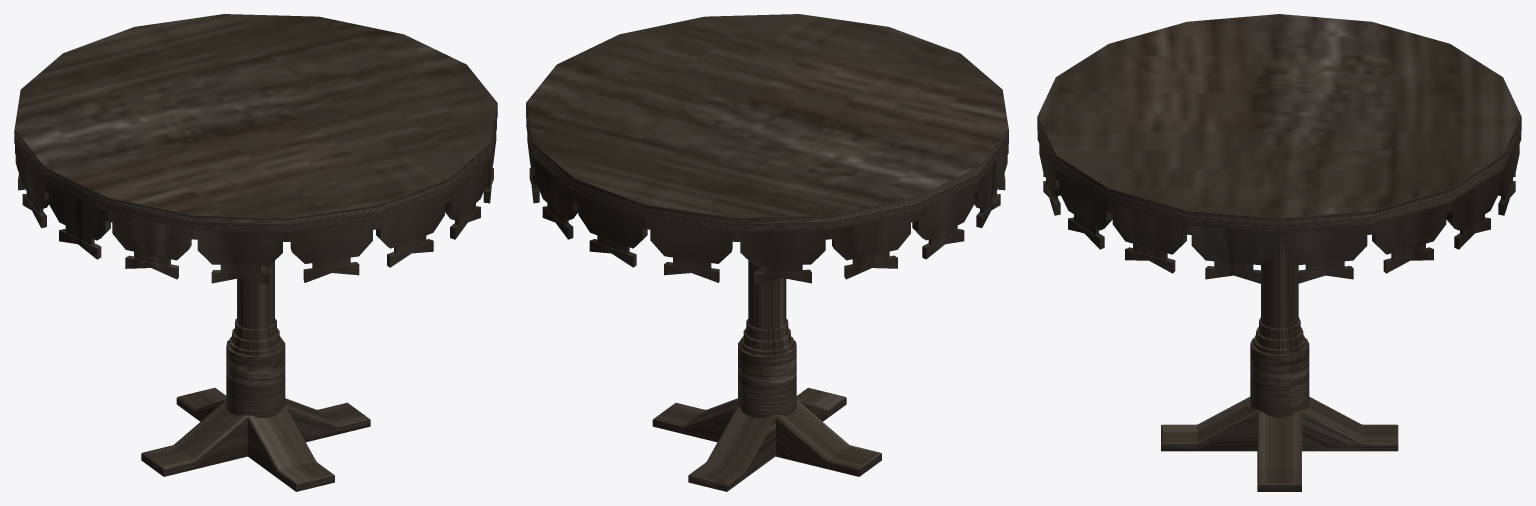
The model's file is smalltable2final.fbx.
3 views of the same model, side by side, from view 1: azimuth 30°, elevation 25°; view 2: azimuth 150°, elevation 25°; view 3: azimuth 270°, elevation 25° (orthographic).
Visible parts, largest first — view 1: pCube2; view 2: pCube2; view 3: pCube2.
Part boxes in pixels (left/top/right/bottom): pCube2: left=14, top=14, right=497, bottom=491; pCube2: left=526, top=14, right=1008, bottom=491; pCube2: left=1037, top=14, right=1521, bottom=491.
Bounding box in the file's own units: 4.34 × 3.22 × 4.34.
